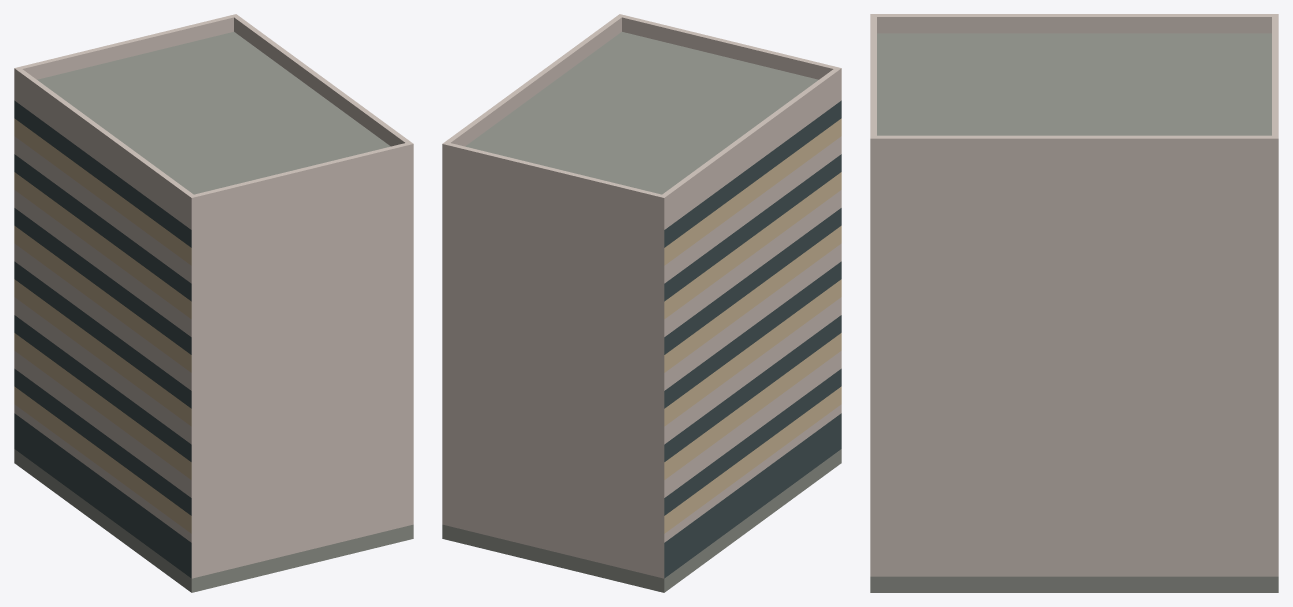
File: far.fbx
3 views of the same model, side by side, from view 1: azimuth 30°, elevation 25°; view 2: azimuth 150°, elevation 25°; view 3: azimuth 270°, elevation 25° (orthographic). The views are drawn at different scales.
Parts seen in each view (by area): view 1: a2001/200/far; view 2: a2001/200/far; view 3: a2001/200/far.
Boxes of the visible parts, x1,y1,x2,y2 form: a2001/200/far: (14, 14, 413, 592); a2001/200/far: (442, 14, 841, 592); a2001/200/far: (870, 14, 1278, 592).
Size of the model in its own units: 13 by 22.1 by 18.
